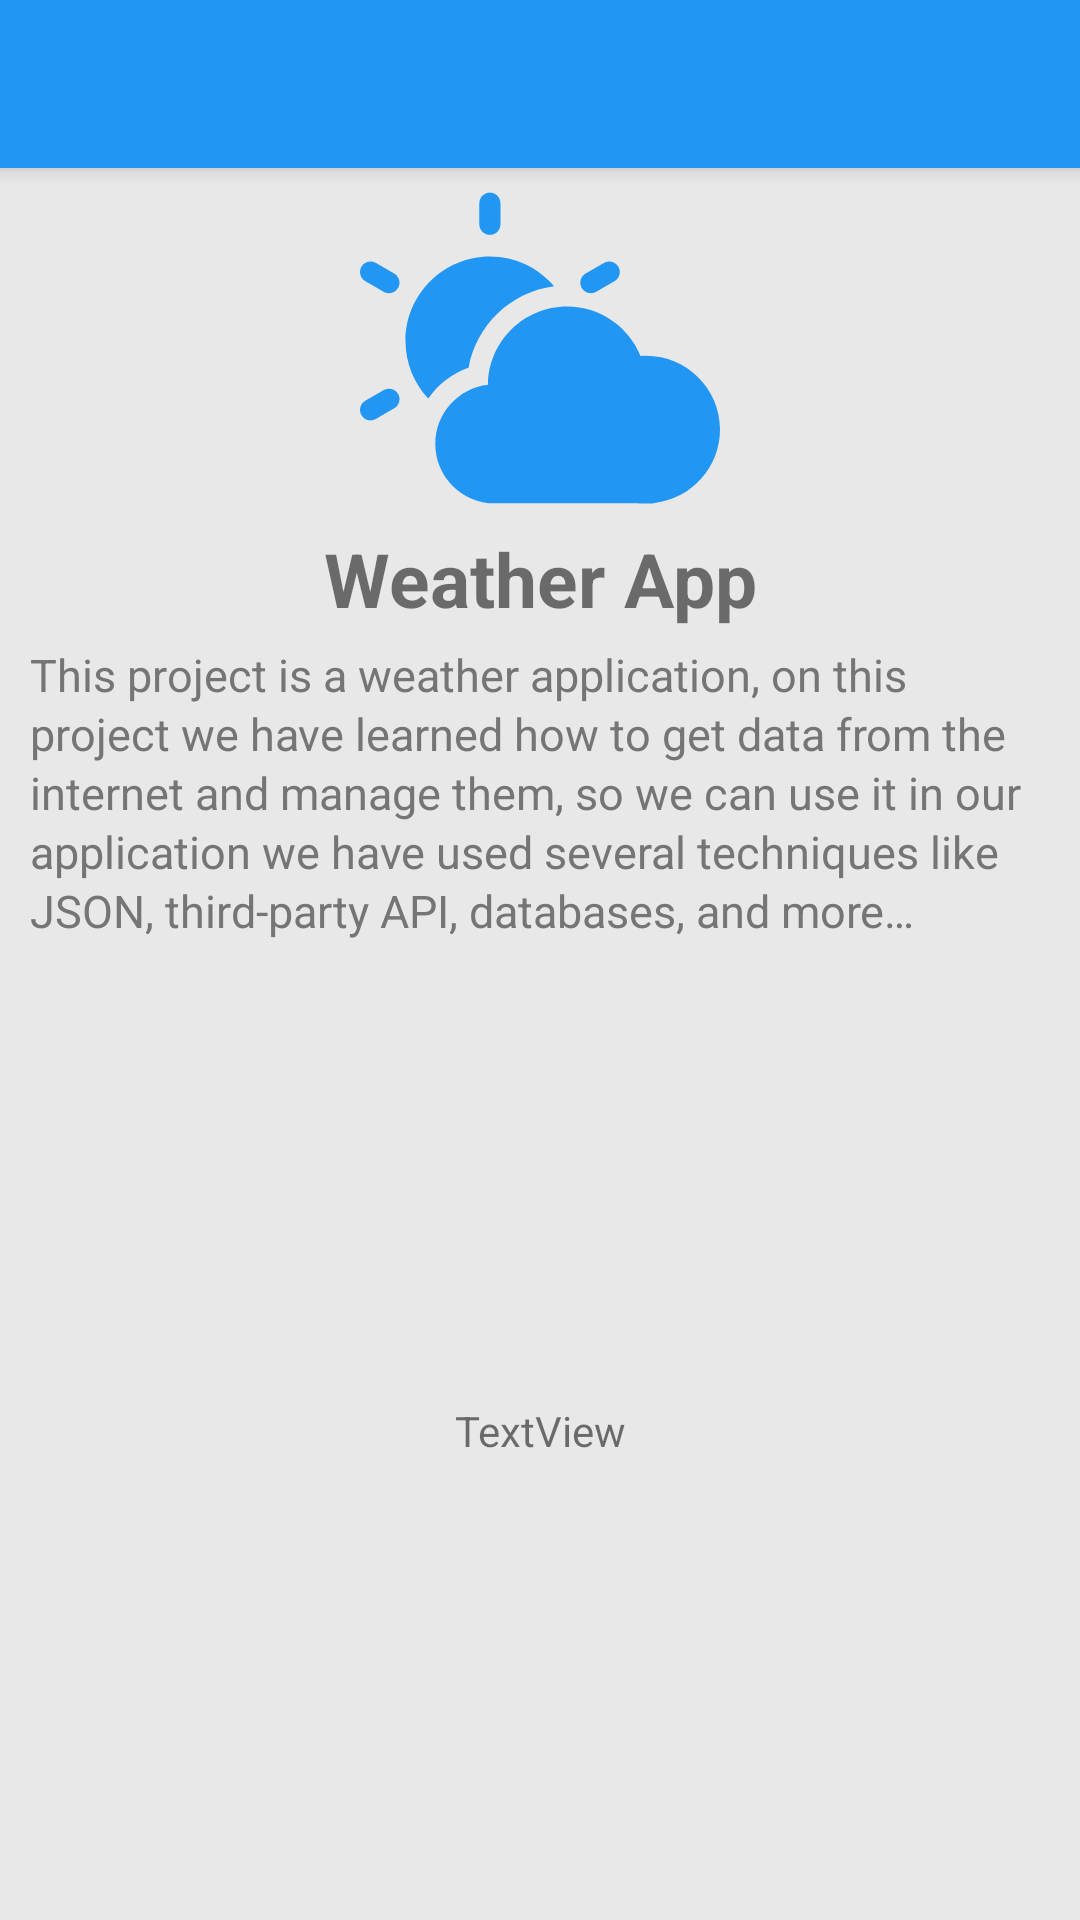

Icons on this 1080px x 1920px Android screen, each with its box as {"x1": x1, "y1": y1, "x2": x2, "y2": y2}:
current weather: {"x1": 360, "y1": 192, "x2": 720, "y2": 504}
